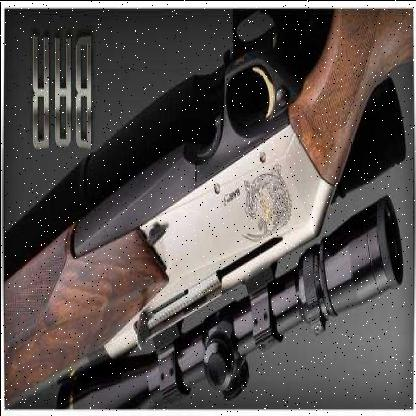rifle: (3, 4, 413, 404)
